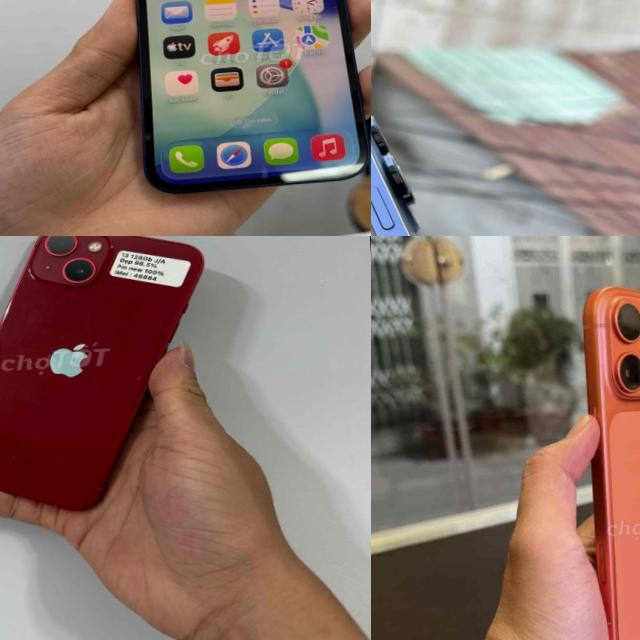gen_12_13: (0, 236, 223, 518), (128, 0, 371, 191)
gen_14: (371, 93, 541, 236)
gen_17: (572, 276, 640, 640)
